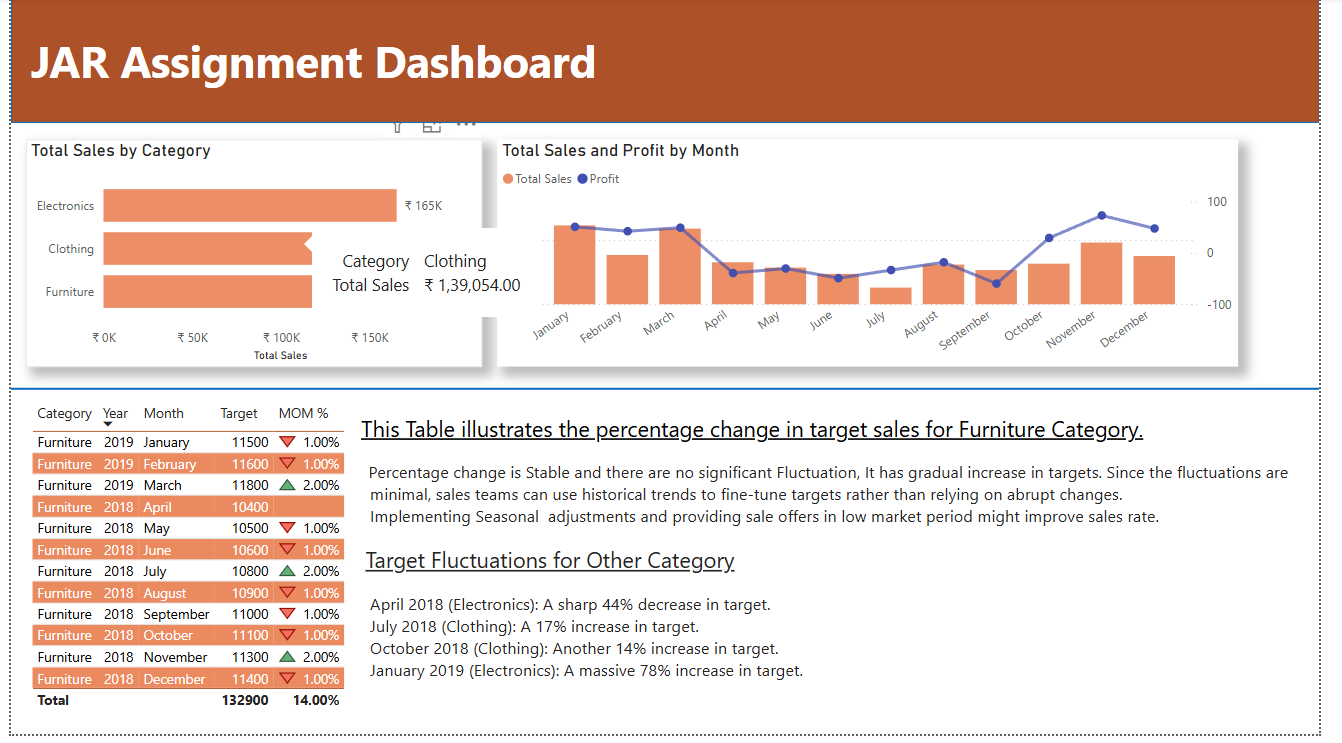

The page's visual inventory and layout, read from the dashboard file:
{"tool":"powerbi","page":{"name":"Sales Analysis","canvas":[1280,720],"ordinal":0},"visuals":[{"type":"barChart","fields":{"Category":["Grouped Category.Category"],"Y":["Sum(Grouped Category.Total Sales)"]},"box":[14.8,137.6,446.5,222.6],"z":0},{"type":"shape","box":[0,0,1280.3,122.1],"z":1000},{"type":"shape","box":[0,373.7,1280.3,16.2],"z":2000},{"type":"lineClusteredColumnComboChart","fields":{"Category":["Big data.Order_Date.Variation.Date Hierarchy.Month"],"Y":["Sum(Big data.Amount)"],"Y2":["Avg(Big data.Profit)"]},"box":[476.2,137.6,724.5,222.6],"z":3000},{"type":"tableEx","fields":{"Values":["Sales target MOM updated.Category","Sales target MOM updated.Month of Order Date.Variation.Date Hierarchy.Year","Sales target MOM updated.Month of Order Date.Variation.Date Hierarchy.Month","Sum(Sales target MOM updated.Target)","Sum(Sales target MOM updated.MOM)"]},"box":[14.8,389.9,322.4,325.1],"z":4000},{"type":"textbox","box":[337.3,400.7,943,314.3],"z":4001},{"type":"textbox","box":[14.8,27,910.6,80.9],"z":4002}]}

Visuals, with their boxes in screenshot pixels (x1, y1, x2, y2), scaled from the page's 1280x720 canvas onto the 1342x743 screenshot:
barChart - Grouped Category.Category x Sum(Grouped Category.Total Sales): 16/142/484/372
shape: 0/0/1341/126
shape: 0/386/1341/402
lineClusteredColumnComboChart - Big data.Order_Date.Variation.Date Hierarchy.Month x Sum(Big data.Amount): 499/142/1259/372
tableEx - Sales target MOM updated.Category x Sales target MOM updated.Month of Order Date.Variation.Date Hierarchy.Year: 16/402/354/738
textbox: 354/414/1341/738
textbox: 16/28/970/111
